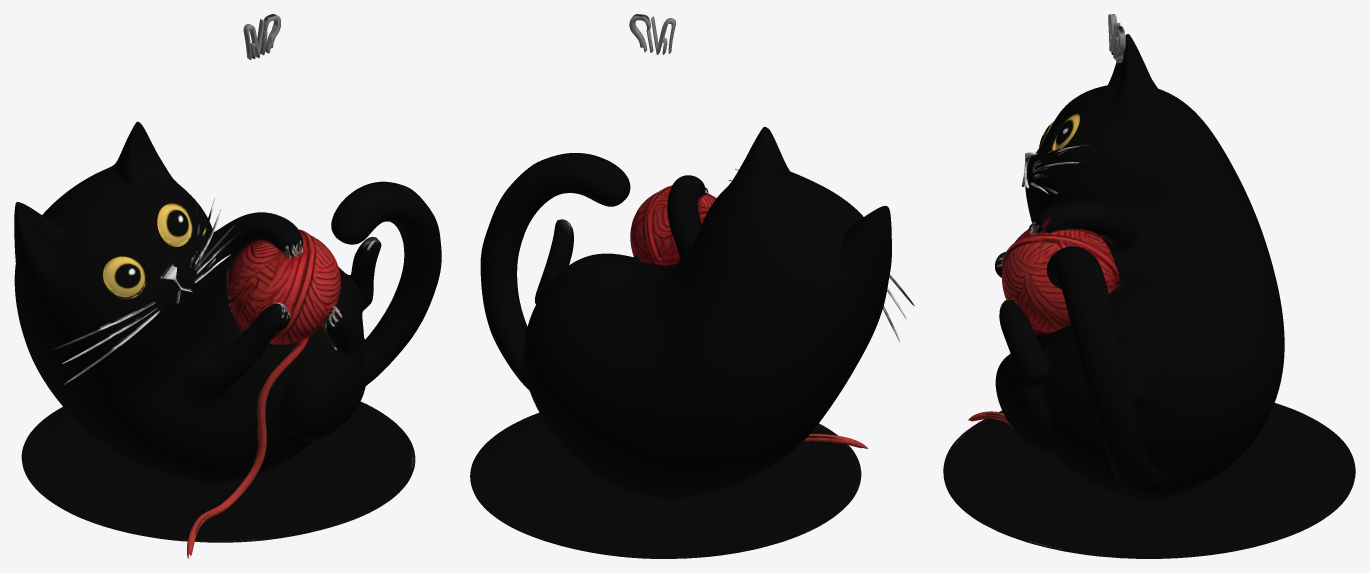
File: black-cat.glb
The picture shows the model from 3 angles, left to right: view 1: azimuth 30°, elevation 25°; view 2: azimuth 150°, elevation 25°; view 3: azimuth 270°, elevation 25°; orthographic projection. The views are drawn at different scales.
Parts seen in each view (by area): view 1: material; view 2: material; view 3: material.
Part boxes in pixels (x1,y1,x2,y2): material: (14, 14, 441, 558); material: (470, 14, 914, 558); material: (943, 14, 1355, 558).
Bounding box in the file's own units: 0.8739 × 0.9082 × 0.7177.
Materials: 1 (1 with a texture image).
